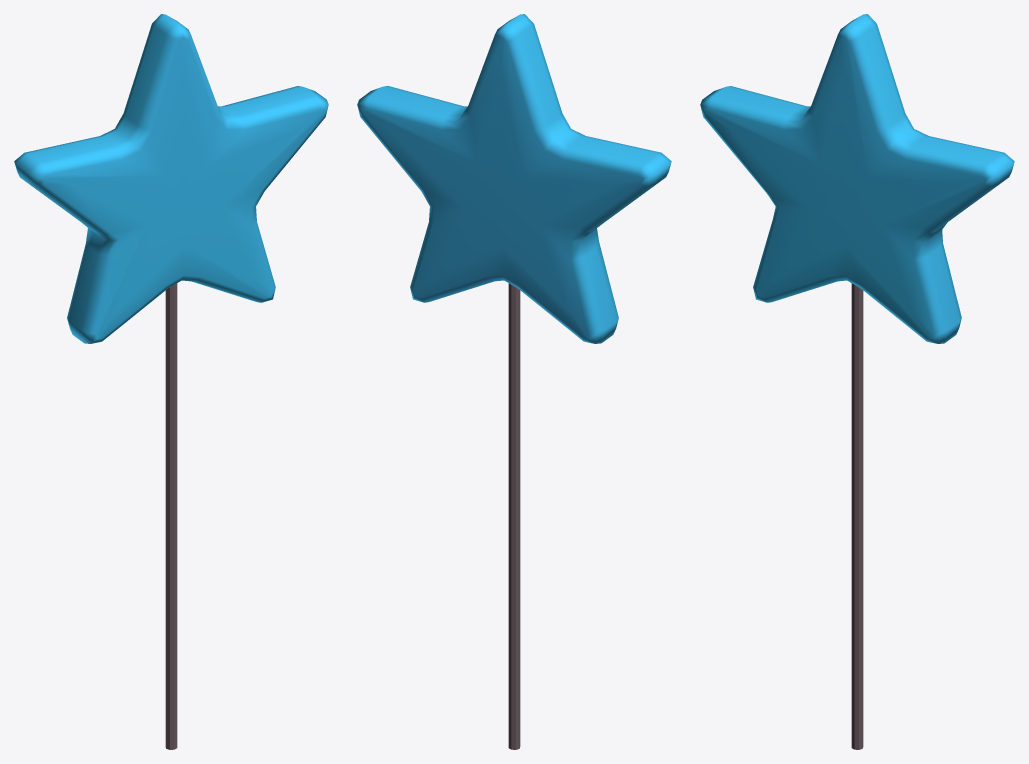
The model's file is dodam_Prop_magic_wand.fbx.
3 views of the same model, side by side, from view 1: azimuth 30°, elevation 25°; view 2: azimuth 150°, elevation 25°; view 3: azimuth 330°, elevation 25° (orthographic).
Parts seen in each view (by area): view 1: dodam_magic_wand; view 2: dodam_magic_wand; view 3: dodam_magic_wand.
Boxes of the visible parts, bbox=[...] form: dodam_magic_wand: bbox=[14, 14, 328, 749]; dodam_magic_wand: bbox=[357, 14, 671, 749]; dodam_magic_wand: bbox=[700, 14, 1014, 749].
Bounding box in the file's own units: 11.17 × 26.02 × 1.74.
1 material, 1 textured.
